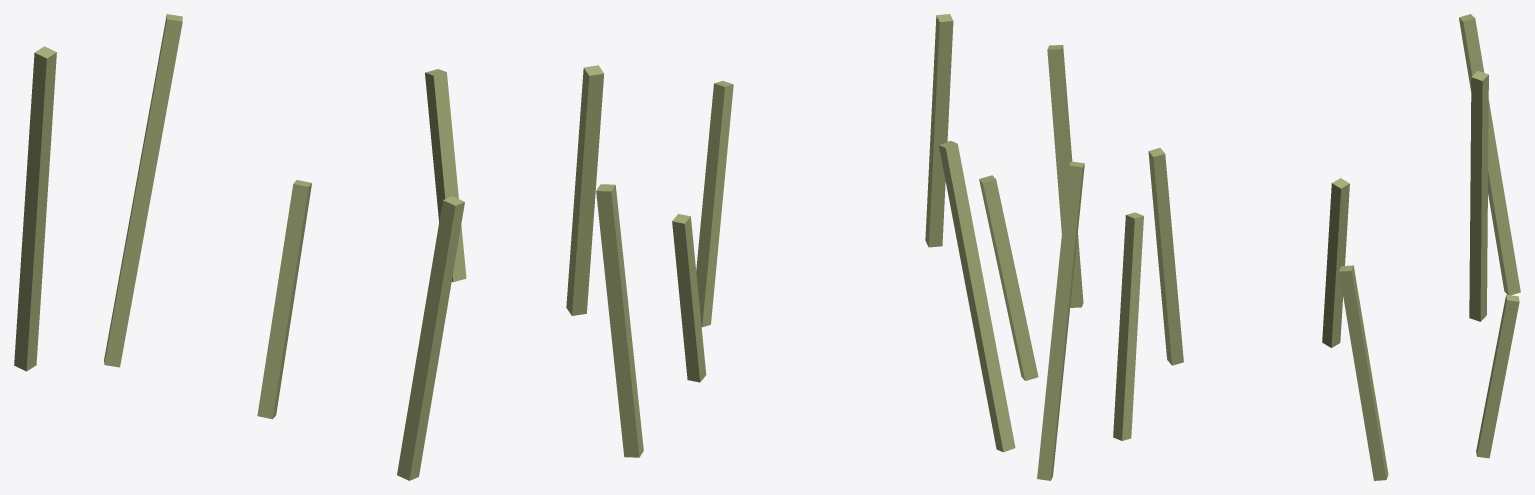
The model's file is weeds.glb.
The picture shows the model from 3 angles, left to right: view 1: azimuth 30°, elevation 25°; view 2: azimuth 150°, elevation 25°; view 3: azimuth 270°, elevation 25°; orthographic projection. The views are drawn at different scales.
Parts seen in each view (by area): view 1: weed_220, weed_223, weed_226, weed_222, weed_224, weed_225, weed_221; view 2: weed_226, weed_220, weed_224, weed_222, weed_225, weed_221, weed_223; view 3: weed_226, weed_222, weed_223, weed_220, weed_224, weed_225, weed_221.
Part boxes in pixels (x1=…): weed_220: x1=14, y1=46, x2=56, y2=371; weed_223: x1=397, y1=196, x2=464, y2=480; weed_226: x1=104, y1=14, x2=182, y2=367; weed_222: x1=596, y1=184, x2=643, y2=457; weed_224: x1=566, y1=65, x2=603, y2=315; weed_225: x1=257, y1=180, x2=311, y2=419; weed_221: x1=425, y1=69, x2=466, y2=282; weed_226: x1=939, y1=141, x2=1015, y2=452; weed_220: x1=1037, y1=161, x2=1084, y2=480; weed_224: x1=696, y1=81, x2=733, y2=327; weed_222: x1=925, y1=14, x2=953, y2=247; weed_225: x1=979, y1=175, x2=1038, y2=380; weed_221: x1=672, y1=214, x2=706, y2=382; weed_223: x1=1047, y1=45, x2=1083, y2=307; weed_226: x1=1469, y1=71, x2=1488, y2=321; weed_222: x1=1113, y1=212, x2=1143, y2=440; weed_223: x1=1148, y1=148, x2=1183, y2=365; weed_220: x1=1459, y1=14, x2=1520, y2=295; weed_224: x1=1339, y1=265, x2=1388, y2=480; weed_225: x1=1322, y1=178, x2=1349, y2=347; weed_221: x1=1476, y1=294, x2=1519, y2=458.
Bounding box in the file's own units: 0.7161 × 0.4693 × 0.6327.
